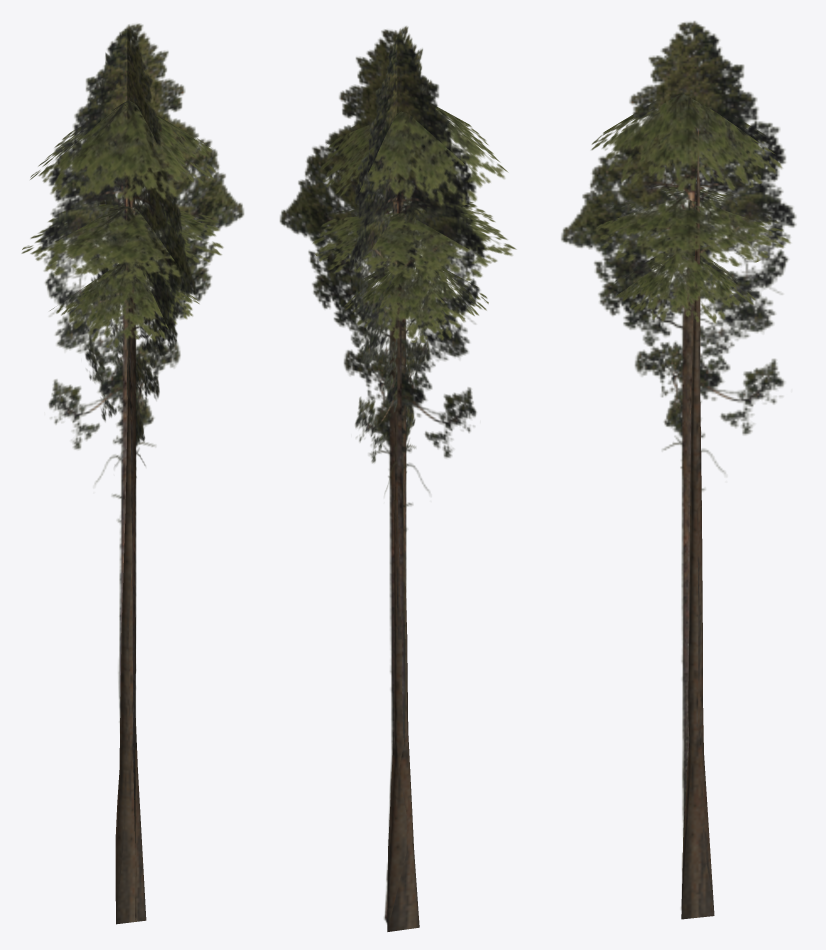
File: forest_bg_tree_06.glb
The picture shows the model from 3 angles, left to right: view 1: azimuth 30°, elevation 25°; view 2: azimuth 150°, elevation 25°; view 3: azimuth 270°, elevation 25°; orthographic projection.
Visible parts, largest first — view 1: Background_Tree_Atlas.005_Background_Tree_Atlas_0; view 2: Background_Tree_Atlas.005_Background_Tree_Atlas_0; view 3: Background_Tree_Atlas.005_Background_Tree_Atlas_0.
Boxes of the visible parts, x1,y1,x2,y2 form: Background_Tree_Atlas.005_Background_Tree_Atlas_0: [21, 23, 243, 924]; Background_Tree_Atlas.005_Background_Tree_Atlas_0: [280, 26, 516, 931]; Background_Tree_Atlas.005_Background_Tree_Atlas_0: [561, 21, 796, 919].
Bounding box in the file's own units: 1.28 × 4.8 × 1.23.
Materials: 1 (1 with a texture image).
